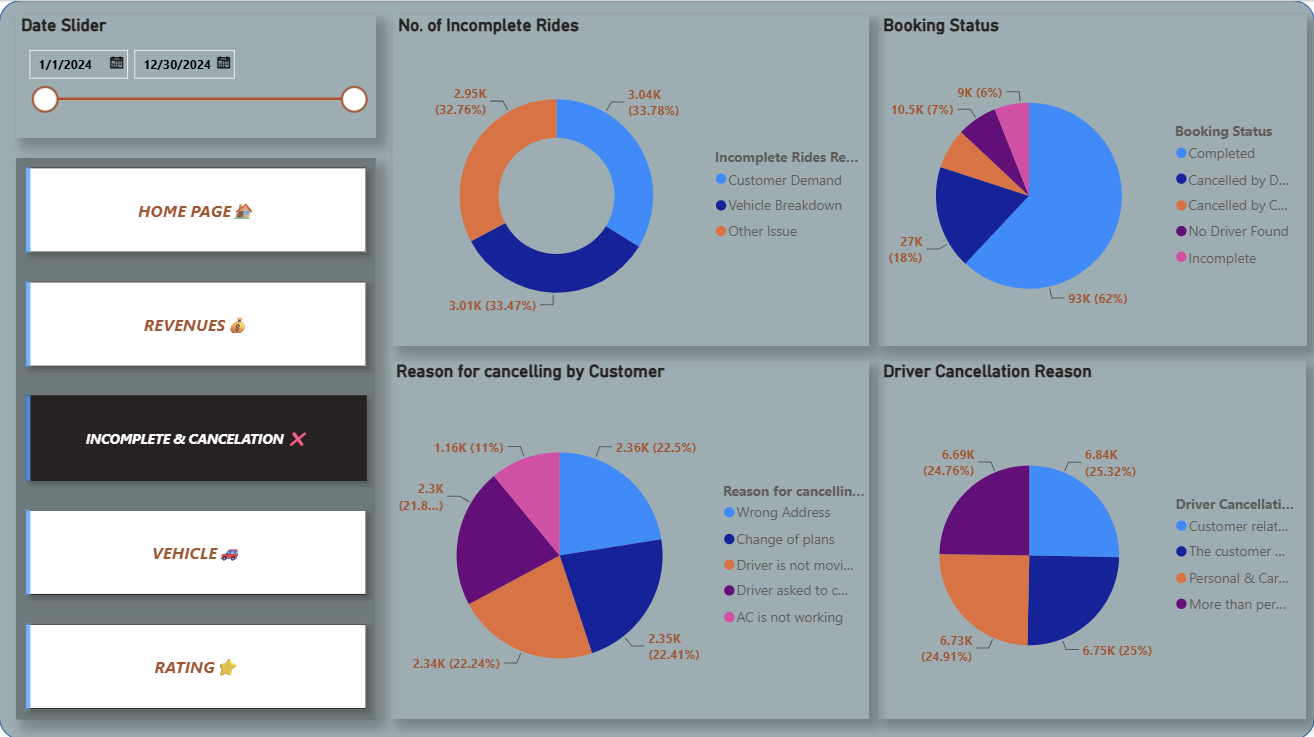

The dashboard page shown, as its layout file describes it:
{"tool":"powerbi","page":{"name":"INCOMPLETE & CANCELATION ❌","canvas":[1280,720],"ordinal":2},"visuals":[{"type":"shape","box":[0,0,1280,719.8],"z":0},{"type":"slicer","title":"Date Slider","fields":{"Values":["ncr_ride_bookings.Date"]},"box":[16.5,14.6,350.2,119.6],"z":1000},{"type":"pageNavigator","title":"REVENUE","box":[16.5,153.7,350.2,545.7],"z":2000},{"type":"donutChart","title":"No. of Incomplete Rides ","fields":{"Y":["CountNonNull(ncr_ride_bookings.Booking ID)"],"Category":["ncr_ride_bookings.Incomplete Rides Reason"]},"box":[383.2,14.6,463,321.9],"z":3000},{"type":"pieChart","title":"Reason for cancelling by Customer","fields":{"Category":["ncr_ride_bookings.Reason for cancelling by Customer"],"Y":["CountNonNull(ncr_ride_bookings.Booking ID)"]},"box":[381.3,351.1,464.9,348.2],"z":4000},{"type":"pieChart","title":"Driver Cancellation Reason","fields":{"Category":["ncr_ride_bookings.Driver Cancellation Reason"],"Y":["CountNonNull(ncr_ride_bookings.Booking ID)"]},"box":[855,351.1,416.3,348.2],"z":5000},{"type":"pieChart","title":"Booking Status","fields":{"Category":["ncr_ride_bookings.Booking Status"],"Y":["CountNonNull(ncr_ride_bookings.Booking ID)"]},"box":[855.3,15,416.7,321.7],"z":6000}]}

Visuals, with their boxes in screenshot pixels (x1, y1, x2, y2), scaled from the page's 1280x720 canvas onto the 1314x737 screenshot:
shape: {"x1": 0, "y1": 0, "x2": 1313, "y2": 736}
"Date Slider" slicer: {"x1": 17, "y1": 15, "x2": 376, "y2": 137}
"REVENUE" pageNavigator: {"x1": 17, "y1": 157, "x2": 376, "y2": 716}
"No. of Incomplete Rides " donutChart: {"x1": 393, "y1": 15, "x2": 869, "y2": 344}
"Reason for cancelling by Customer" pieChart: {"x1": 391, "y1": 359, "x2": 869, "y2": 716}
"Driver Cancellation Reason" pieChart: {"x1": 878, "y1": 359, "x2": 1305, "y2": 716}
"Booking Status" pieChart: {"x1": 878, "y1": 15, "x2": 1306, "y2": 345}
